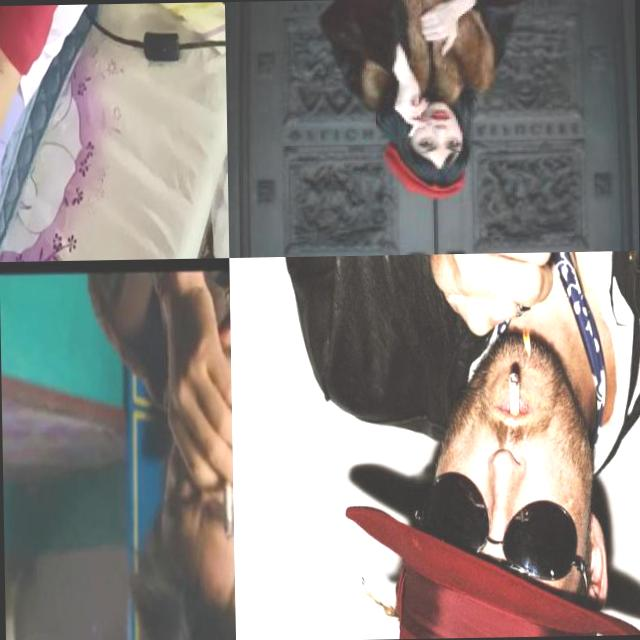cigarette: (506, 369, 522, 419), (222, 476, 233, 543), (406, 122, 419, 136)
